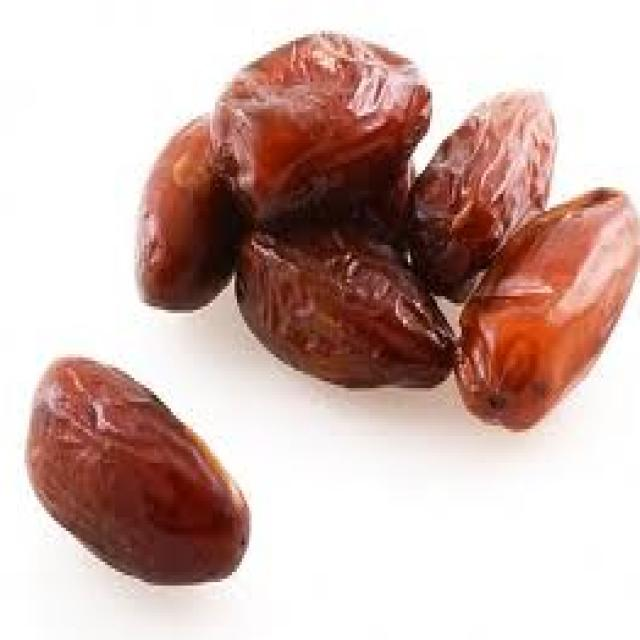dates: (12, 10, 640, 586)
